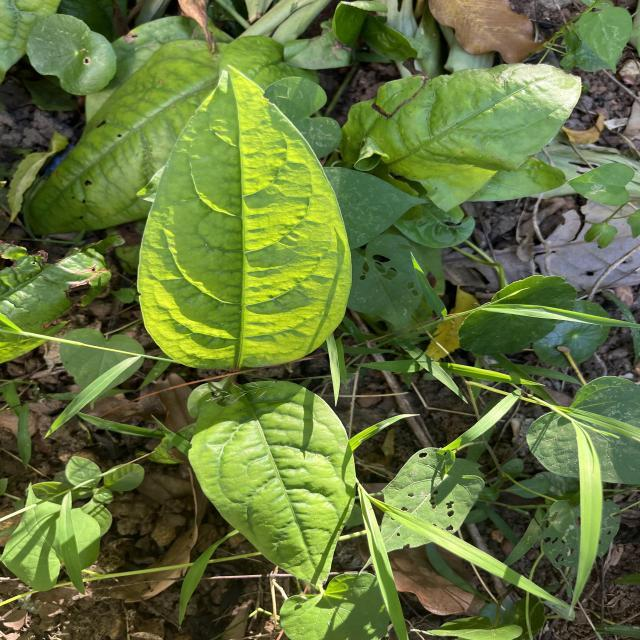Plumbago indica: (134, 61, 353, 377), (184, 378, 360, 595), (348, 61, 588, 212)
